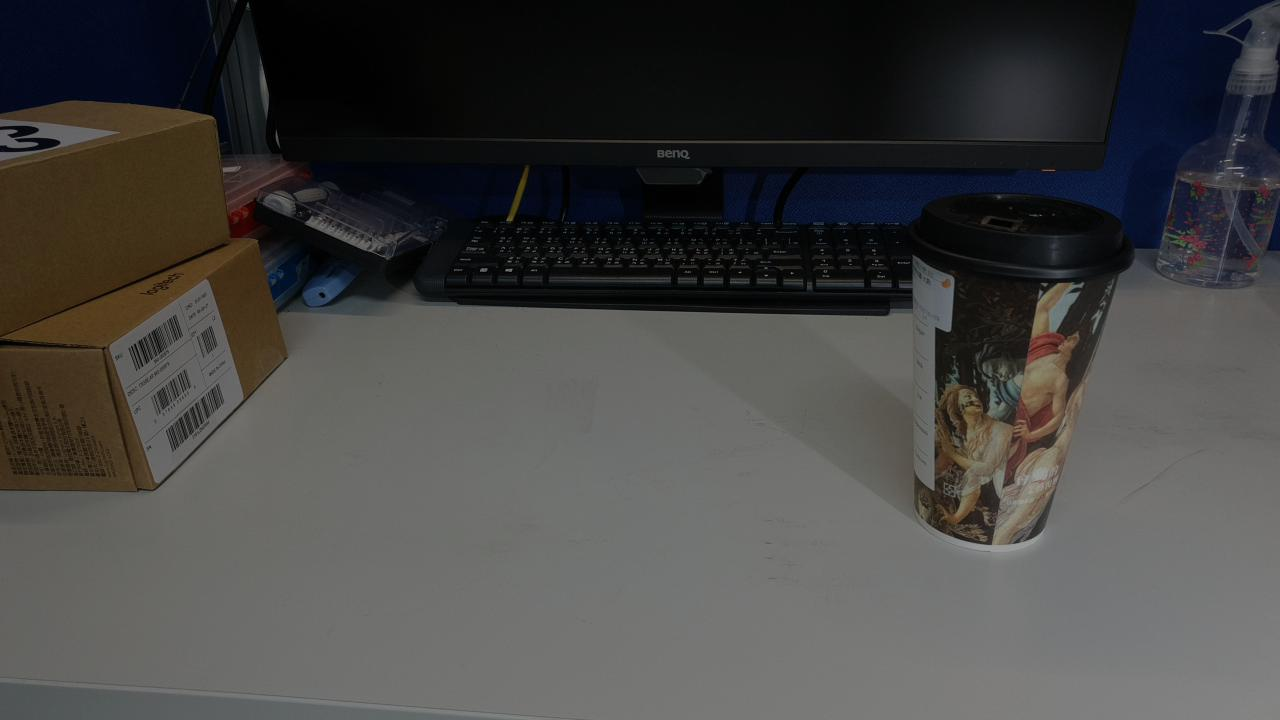circle: (457, 515, 607, 639)
